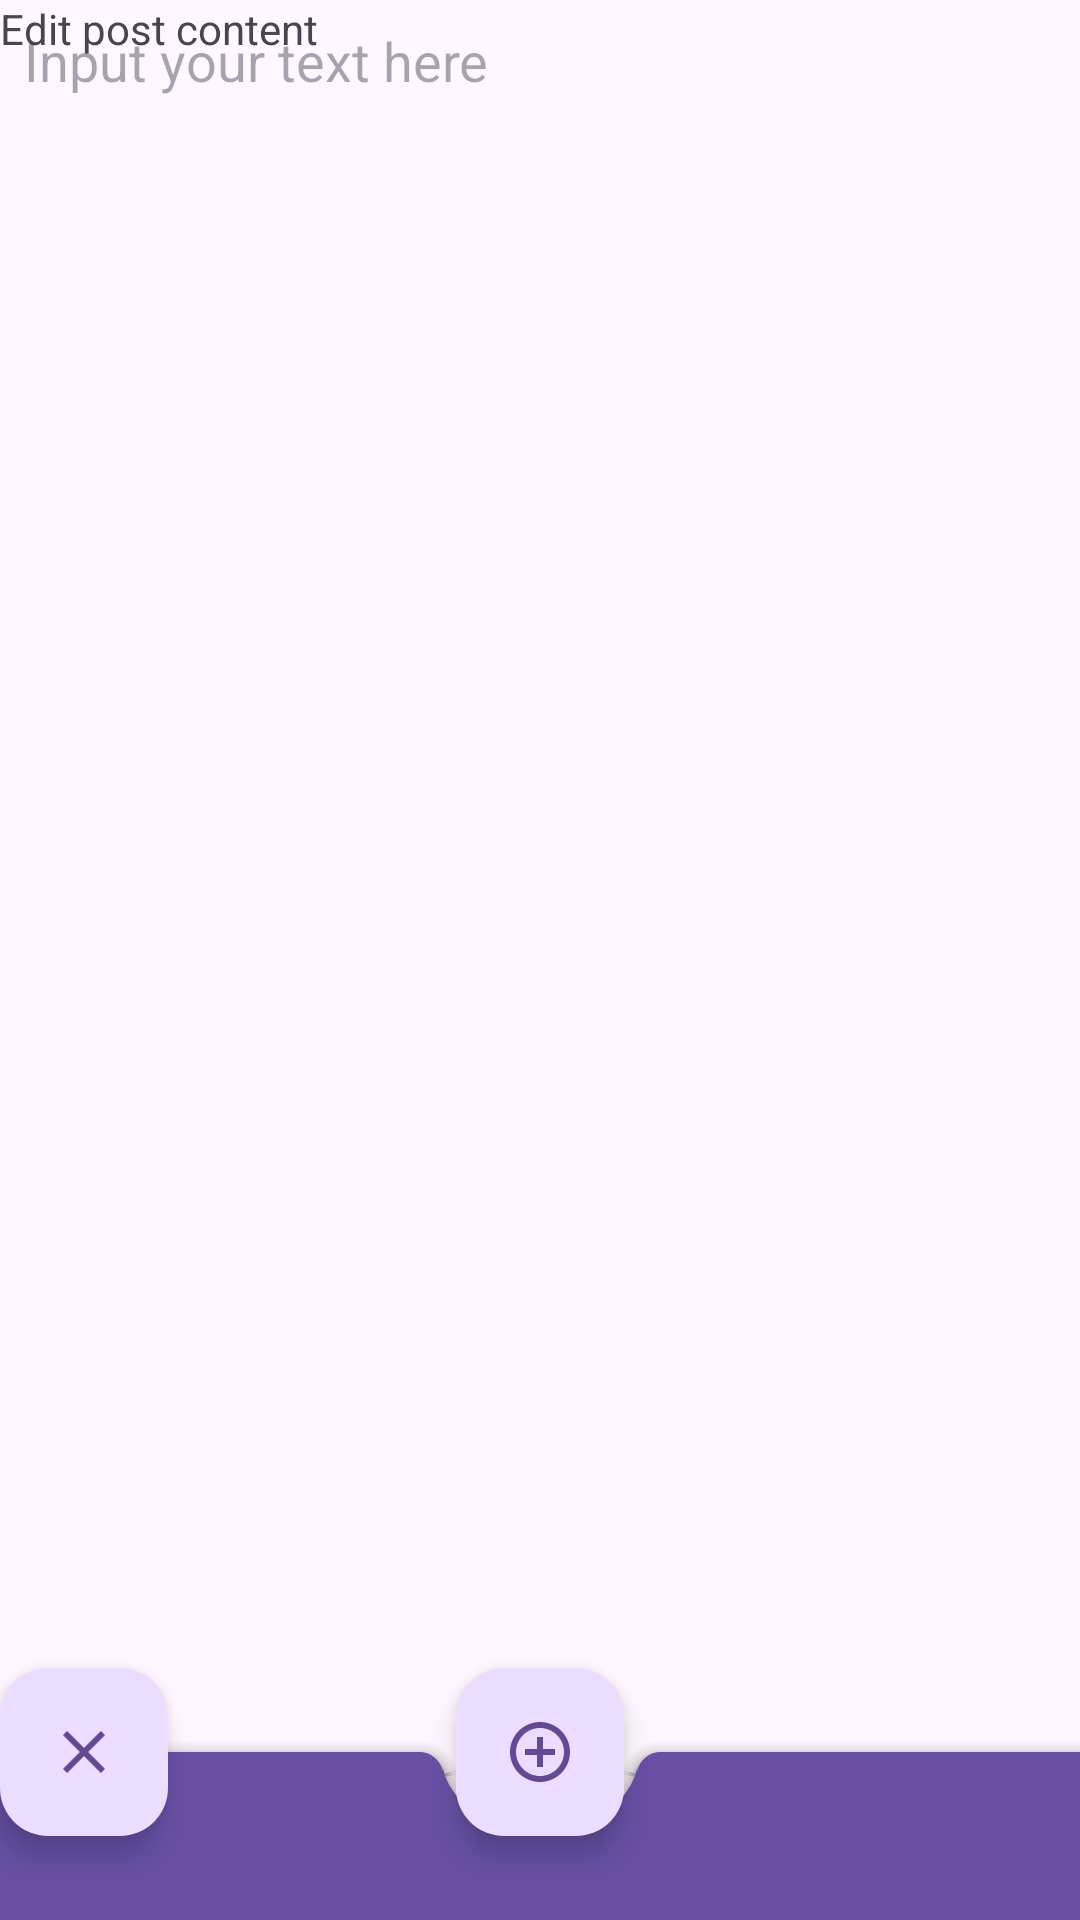

Icons on this 1080×1920 Android screen, each with the point to tap as point (x, y):
clear: point (84, 1752)
